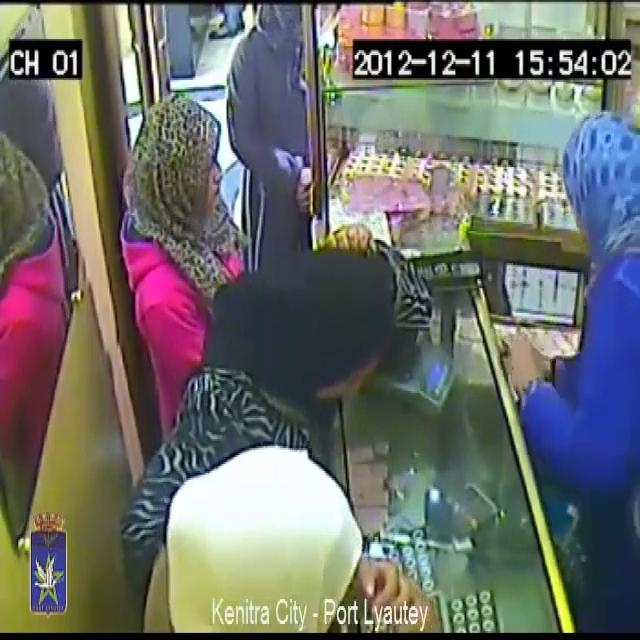Product: (512, 307, 560, 378)
normal: (117, 405, 334, 640), (120, 64, 232, 330), (257, 218, 388, 436), (215, 2, 326, 234)
shoplifting: (503, 73, 640, 640)
